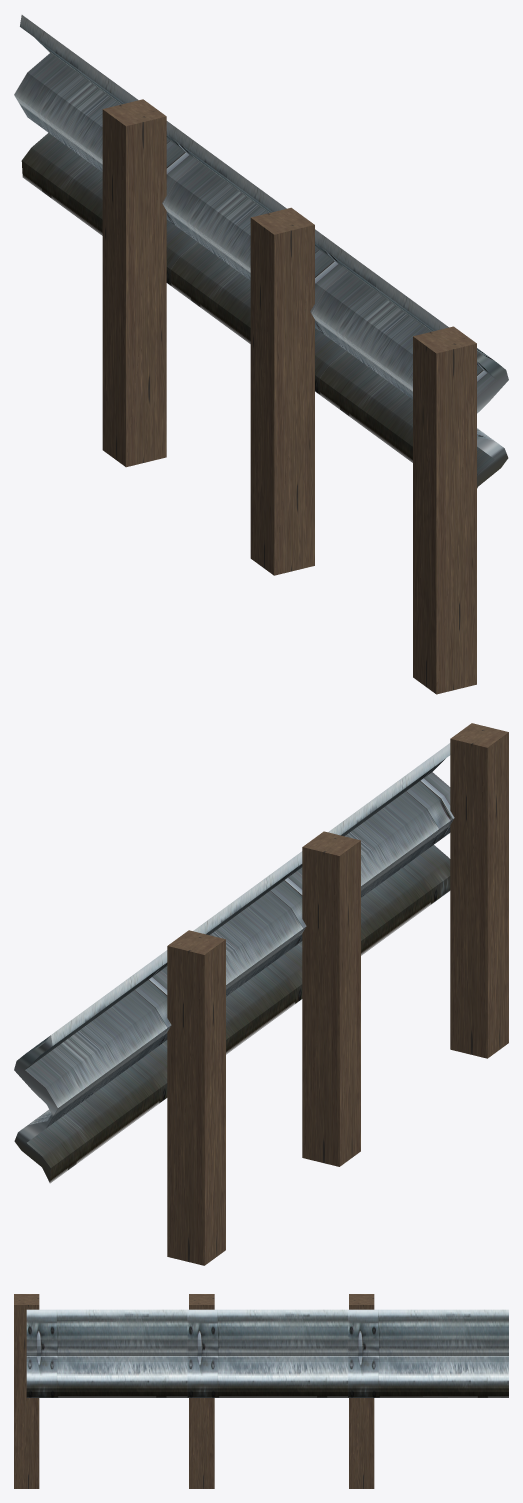
File: mesh_guard_rail.obj
3 renders of one model, top to bottom at view 1: azimuth 30°, elevation 25°; view 2: azimuth 150°, elevation 25°; view 3: azimuth 270°, elevation 25°, orthographic. The views are drawn at different scales.
Parts seen in each view (by area): view 1: mesh_guard_rail, post (1), post (2), post; view 2: mesh_guard_rail, post (2), post, post (1); view 3: mesh_guard_rail, post, post (1), post (2).
Part boxes in pixels (box(x1,y1,x2,y2)): mesh_guard_rail: box(14, 15, 508, 488); post (1): box(250, 207, 314, 575); post (2): box(102, 99, 166, 467); post: box(413, 326, 476, 694); mesh_guard_rail: box(14, 743, 454, 1183); post (2): box(167, 930, 225, 1265); post: box(450, 723, 508, 1058); post (1): box(302, 831, 360, 1166); mesh_guard_rail: box(26, 1309, 508, 1397); post: box(14, 1294, 39, 1488); post (1): box(189, 1294, 214, 1488); post (2): box(349, 1294, 374, 1488).
Size of the model in its own units: 0.5177 by 2 by 4.87.
